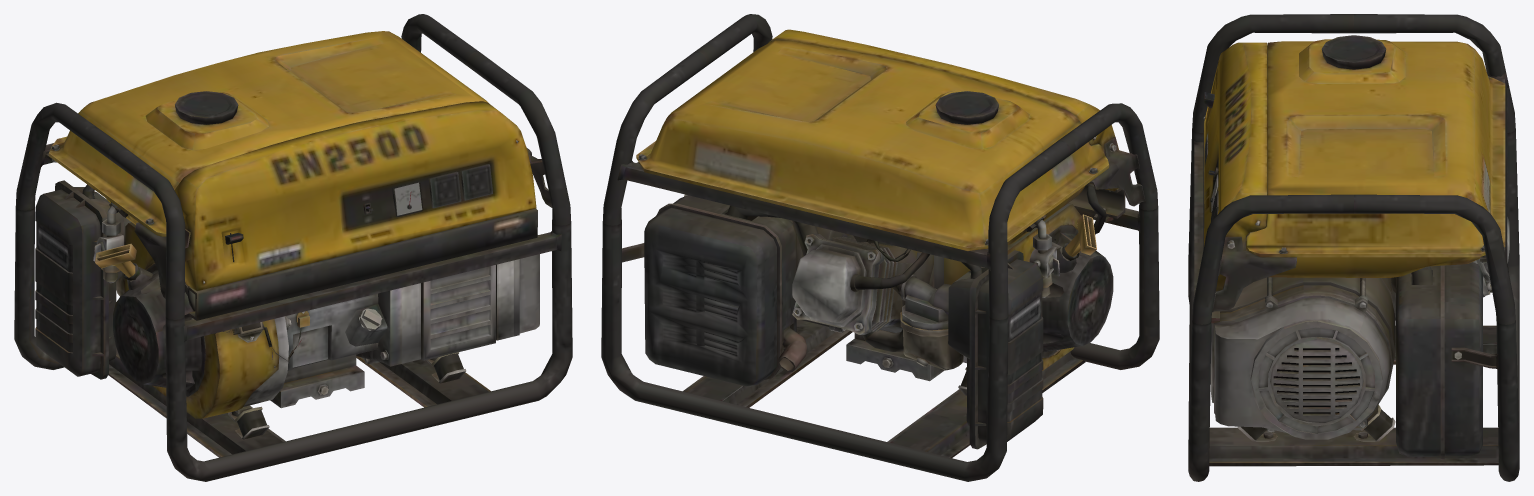
Rendered from portable_generator.glb.
3 views of the same model, side by side, from view 1: azimuth 30°, elevation 25°; view 2: azimuth 150°, elevation 25°; view 3: azimuth 270°, elevation 25° (orthographic).
Visible parts, largest first — view 1: portable_generator; view 2: portable_generator; view 3: portable_generator.
Boxes of the visible parts, <box> form: portable_generator: <box>14,14,572,481</box>; portable_generator: <box>601,14,1159,481</box>; portable_generator: <box>1188,14,1519,481</box>.
Bounding box in the file's own units: 0.8169 × 0.5752 × 0.564.
2 materials, 2 textured.
